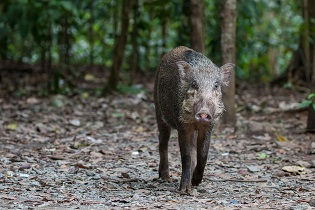boar: (150, 43, 237, 198)
